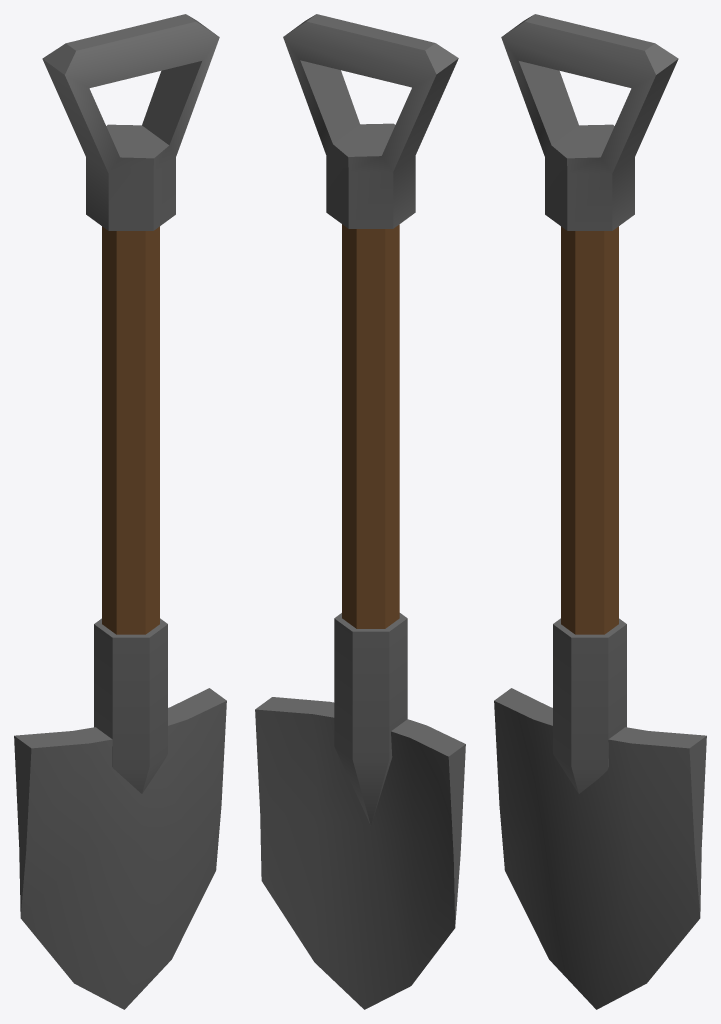
Rendered from Mdl_Shovel.fbx.
3 renders of one model, left to right at view 1: azimuth 30°, elevation 25°; view 2: azimuth 150°, elevation 25°; view 3: azimuth 330°, elevation 25°, orthographic.
Visible parts, largest first — view 1: Mdl_Shovel; view 2: Mdl_Shovel; view 3: Mdl_Shovel.
Boxes of the visible parts, bbox=[...] form: Mdl_Shovel: bbox=[14, 14, 226, 1009]; Mdl_Shovel: bbox=[255, 14, 465, 1009]; Mdl_Shovel: bbox=[494, 14, 706, 1009].
Size of the model in its own units: 1.31 by 6.31 by 0.5362.
